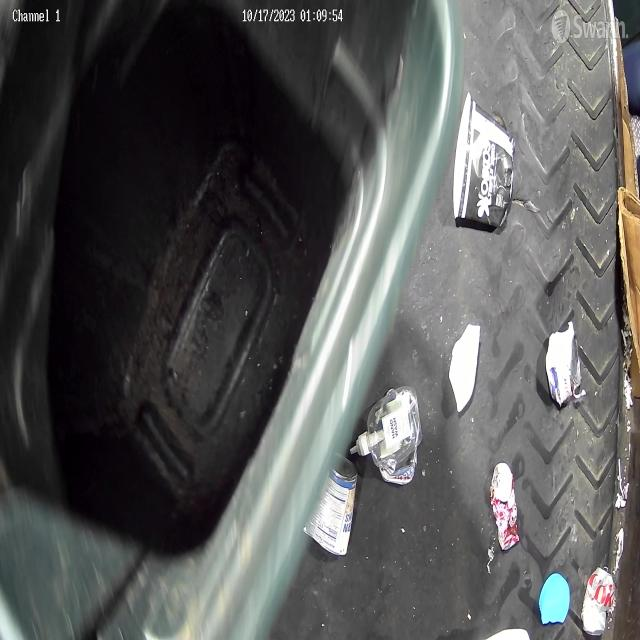can: (311, 453, 359, 557), (490, 462, 521, 552), (582, 564, 619, 636), (546, 328, 580, 404)
